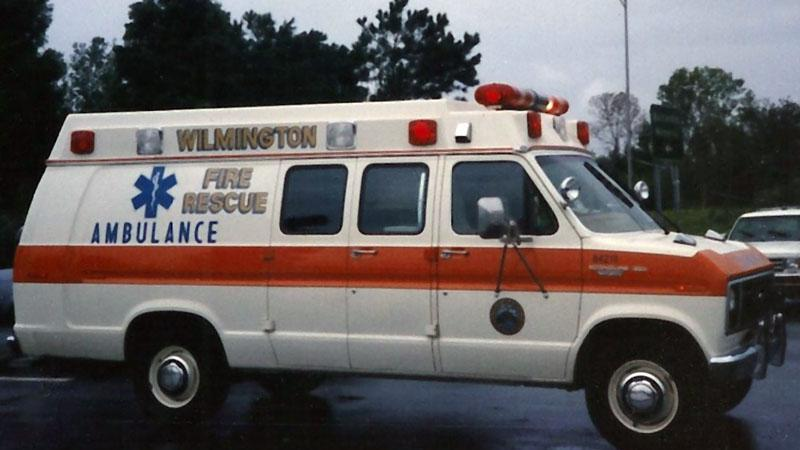Ambulance: (129, 166, 183, 220)
